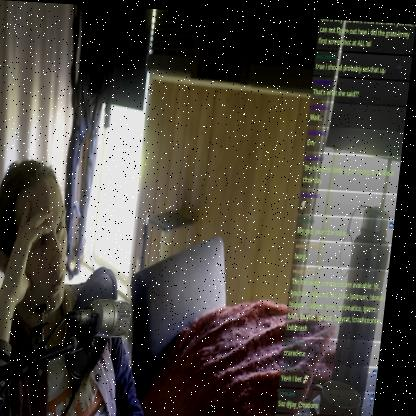streamer: (0, 151, 184, 416)
